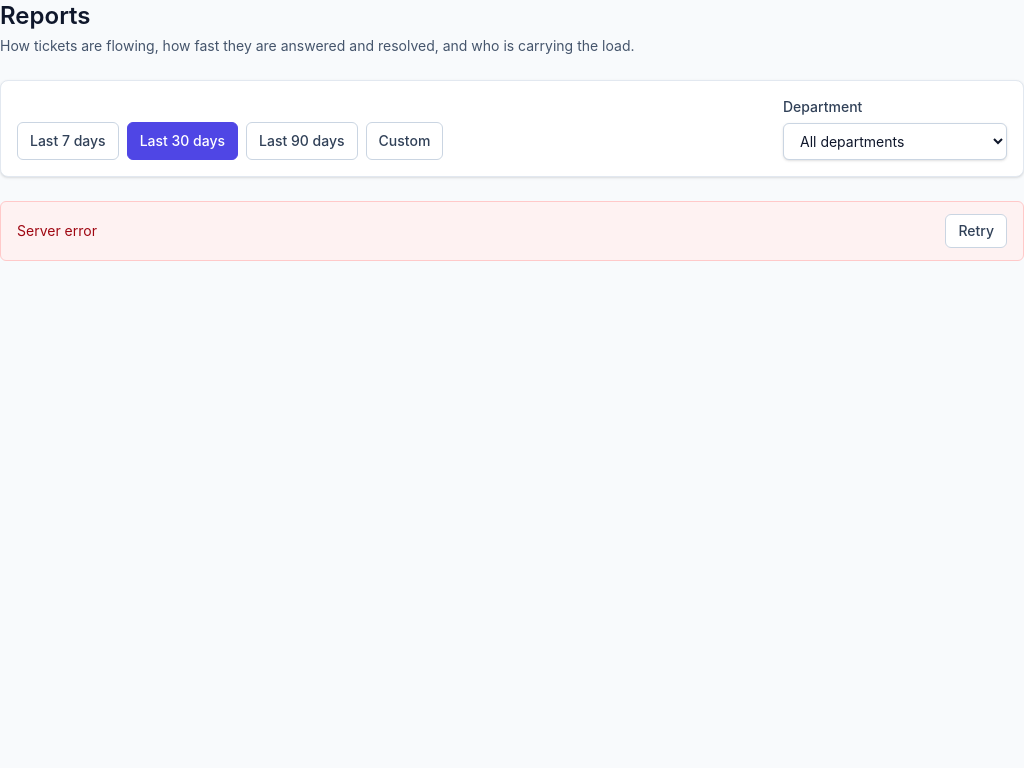
Test: ReportsPage › offers a retry when loading fails
This screenshot has width=1024, height=768.
Check: the text "Server error" is shown, box [17,221,97,241]
What coordinates should you click on to do the following:
click the button "Retry"
I would click on:
 (976, 231)
Its box is [945,214,1007,248].
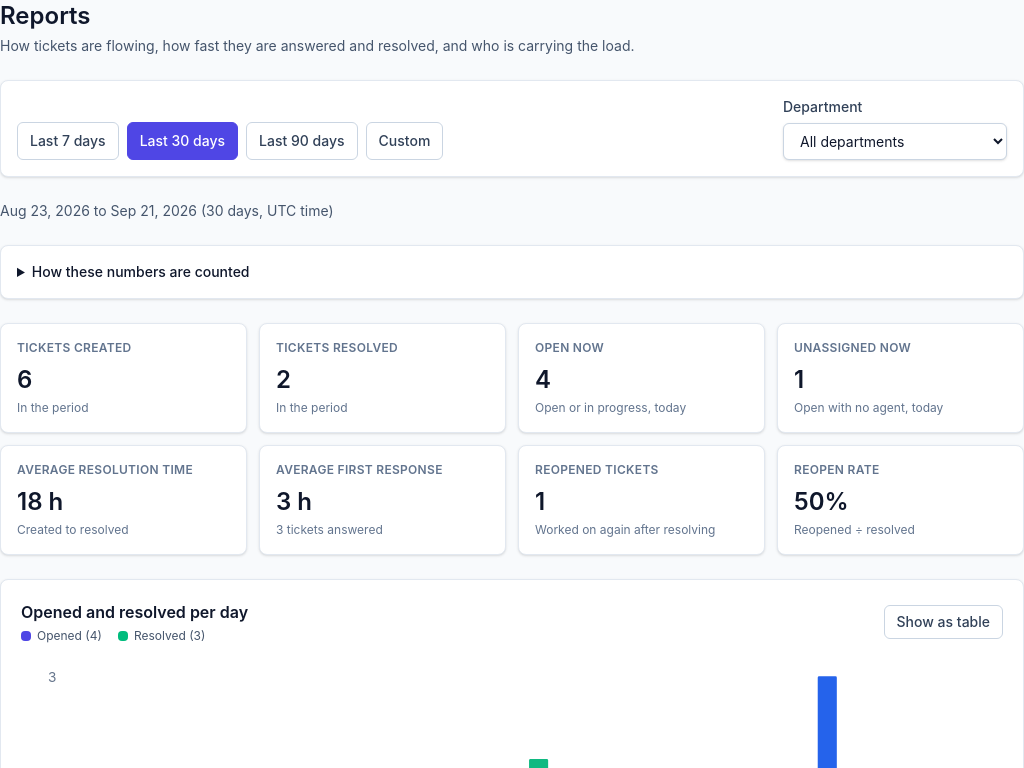
Check: the text "Tickets created" is shown, box [17,340,132,355]
